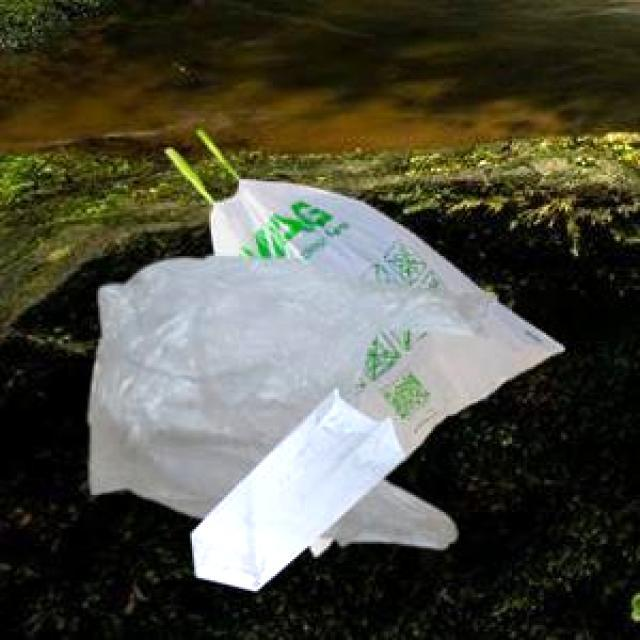Plastic_Bag: (163, 127, 562, 554), (86, 252, 494, 546), (189, 387, 400, 588)
